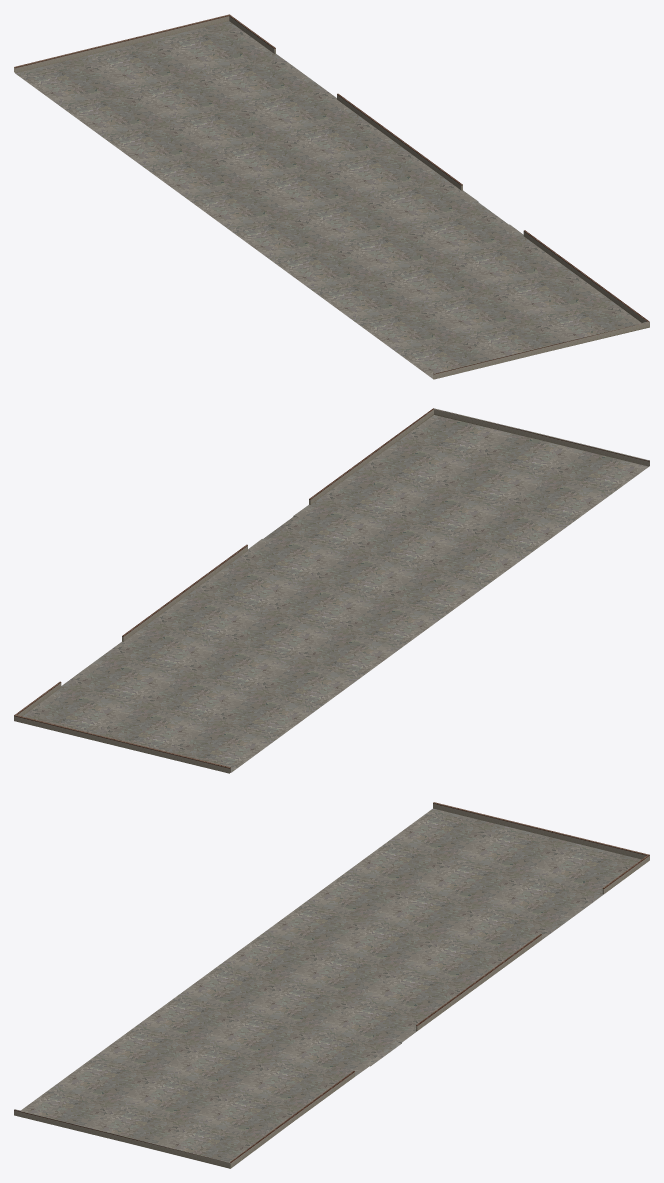
The model's file is lodassland59.obj.
The picture shows the model from 3 angles, top to bottom: view 1: azimuth 30°, elevation 25°; view 2: azimuth 150°, elevation 25°; view 3: azimuth 330°, elevation 25°; orthographic projection.
Parts seen in each view (by area): view 1: lodasSland59; view 2: lodasSland59; view 3: lodasSland59.
Boxes of the visible parts, left/top/right/bottom form: lodasSland59: left=14, top=14, right=649, bottom=379; lodasSland59: left=14, top=408, right=649, bottom=773; lodasSland59: left=14, top=802, right=649, bottom=1168.
Bounding box in the file's own units: 40.15 × 1.15 × 135.
2 materials, 2 textured.
